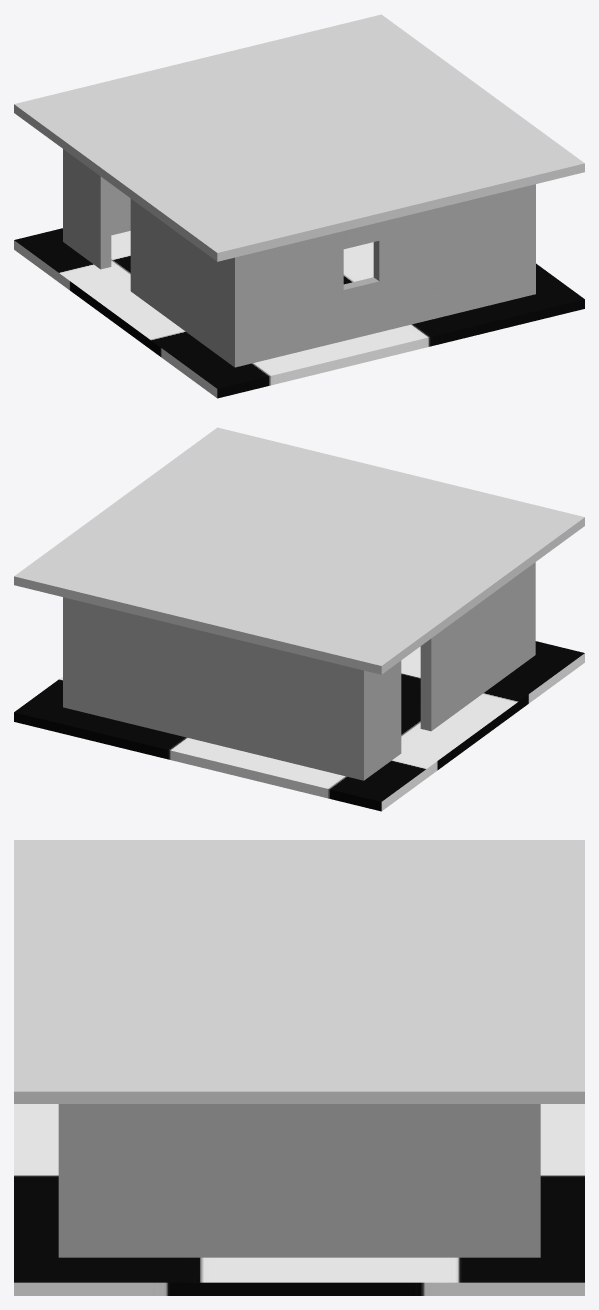
The model's file is WallAndRoof.fbx.
3 views of the same model, one above another, from view 1: azimuth 30°, elevation 25°; view 2: azimuth 150°, elevation 25°; view 3: azimuth 270°, elevation 25° (orthographic). The views are drawn at different scales.
Parts seen in each view (by area): view 1: polySurface239, polySurface237.001; view 2: polySurface239, polySurface237.001; view 3: polySurface239, polySurface237.001.
Part boxes in pixels (<box>): polySurface239: <box>14,14,584,261</box>; polySurface237.001: <box>14,149,584,398</box>; polySurface239: <box>14,427,584,674</box>; polySurface237.001: <box>14,562,584,811</box>; polySurface239: <box>14,840,584,1103</box>; polySurface237.001: <box>14,1104,584,1295</box>.
Size of the model in its own units: 273 by 103 by 262.
Materials: 3 (1 with a texture image).
